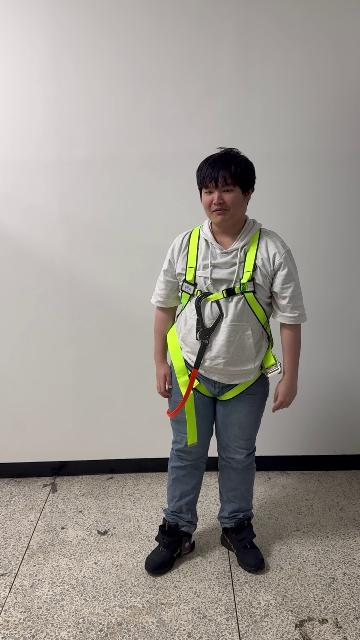helmet_not_worn: (196, 146, 258, 213)
shoe_worn: (144, 518, 196, 574), (220, 518, 264, 572)
vest_worn: (162, 227, 278, 436)
